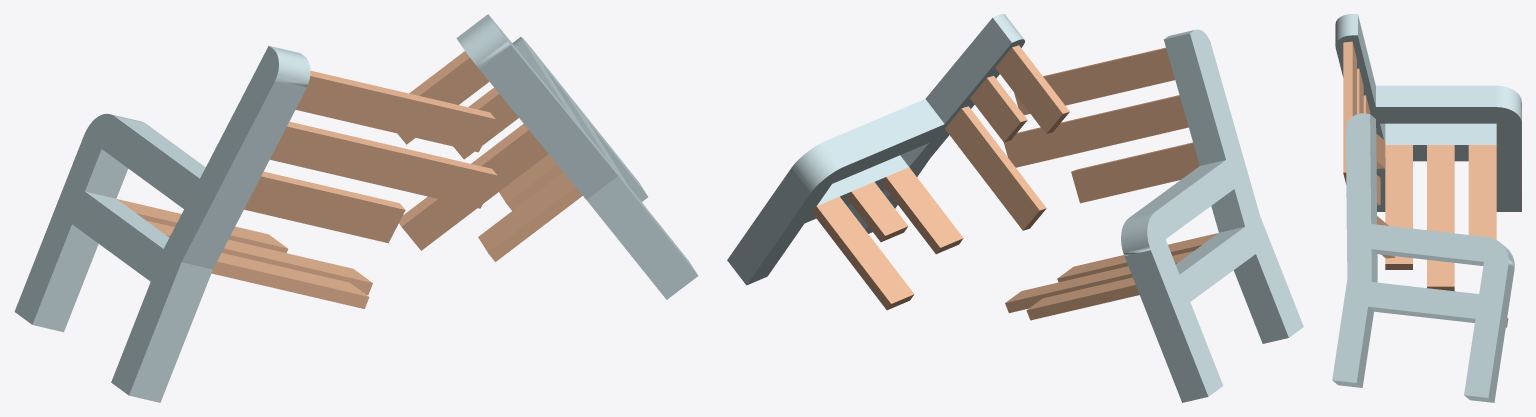
File: benchDamaged.glb
3 views of the same model, side by side, from view 1: azimuth 30°, elevation 25°; view 2: azimuth 150°, elevation 25°; view 3: azimuth 270°, elevation 25° (orthographic). The views are drawn at different scales.
Parts seen in each view (by area): view 1: benchBroken %8angles; view 2: benchBroken %8angles; view 3: benchBroken %8angles.
Part boxes in pixels (x1,y1,x2,y2): benchBroken %8angles: (14,14,698,402); benchBroken %8angles: (727,14,1303,402); benchBroken %8angles: (1332,14,1521,402).
Bounding box in the file's own units: 0.9902 × 0.5319 × 0.3829.
